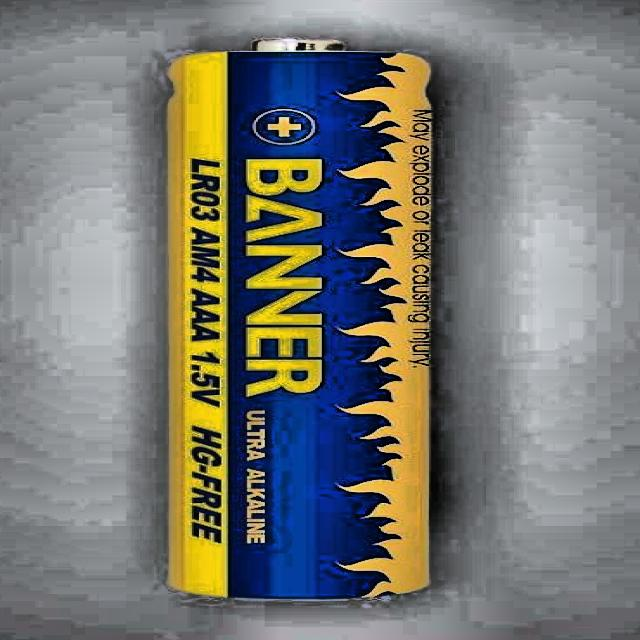Non-Valuable Waste - Batteries: (168, 42, 430, 598)
